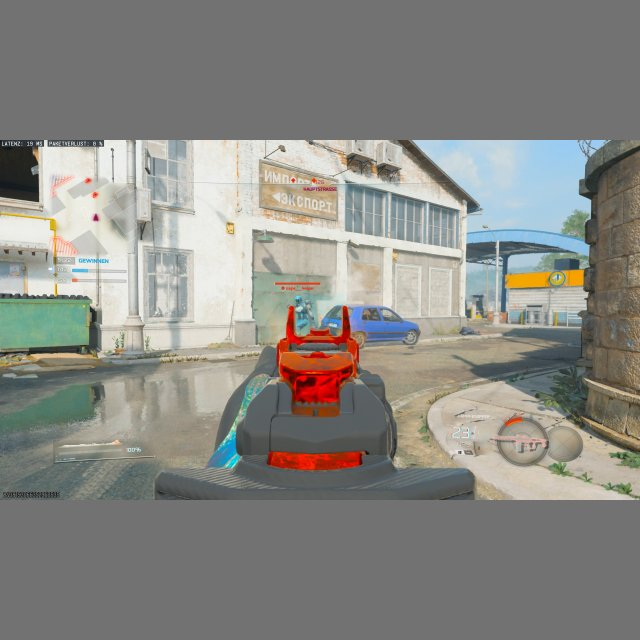head: (294, 295, 302, 304)
player: (292, 295, 312, 330)
